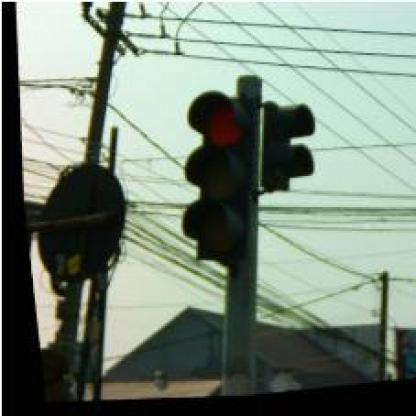red: (158, 87, 266, 272)
